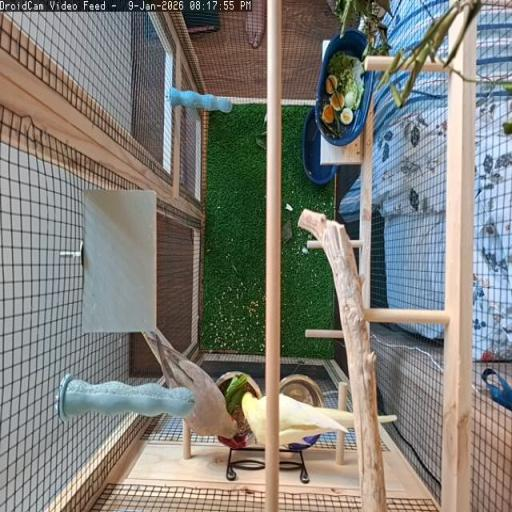bebedero: (279, 375, 326, 405), (282, 375, 324, 405), (285, 435, 320, 450)
comedero: (218, 401, 254, 448), (216, 371, 242, 397), (238, 375, 262, 398), (226, 469, 235, 478)
ninfa: (142, 330, 237, 437), (279, 395, 354, 444), (242, 393, 266, 443)
